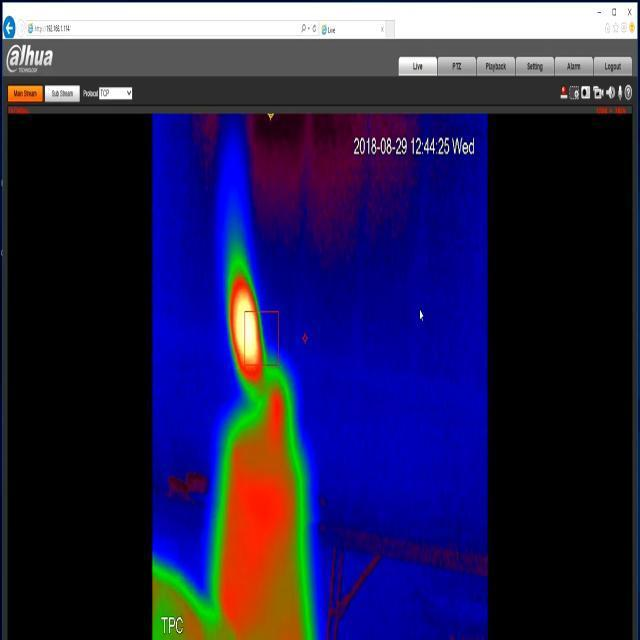fire: (227, 232, 267, 396)
